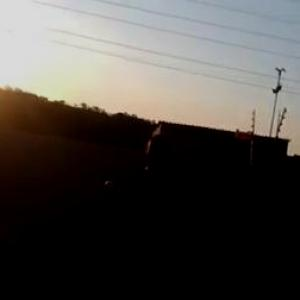follow: (96, 124, 184, 299)
